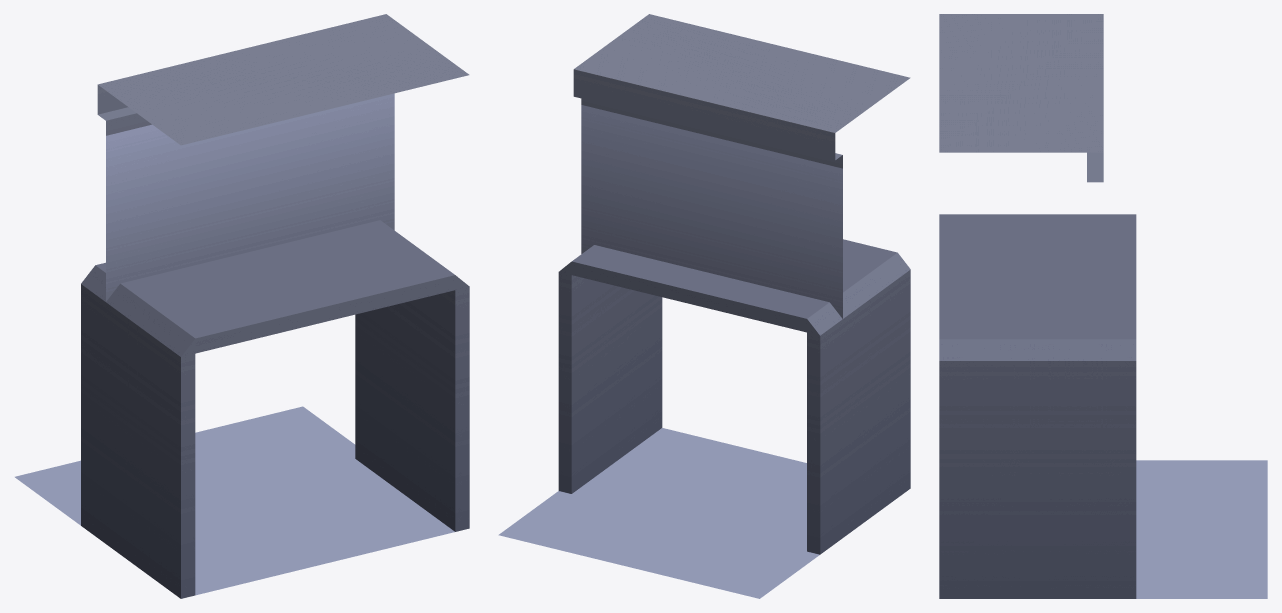
File: structure-doorway-wide.glb
3 renders of one model, left to right at view 1: azimuth 30°, elevation 25°; view 2: azimuth 150°, elevation 25°; view 3: azimuth 270°, elevation 25°, orthographic. The views are drawn at different scales.
Visible parts, largest first — view 1: structure-doorway-wide; view 2: structure-doorway-wide; view 3: structure-doorway-wide.
Part boxes in pixels (<box>): structure-doorway-wide: <box>15,14,469,598</box>; structure-doorway-wide: <box>498,14,910,598</box>; structure-doorway-wide: <box>939,14,1267,598</box>.
Bounding box in the file's own units: 2 × 3 × 2.
1 material, 1 textured.
